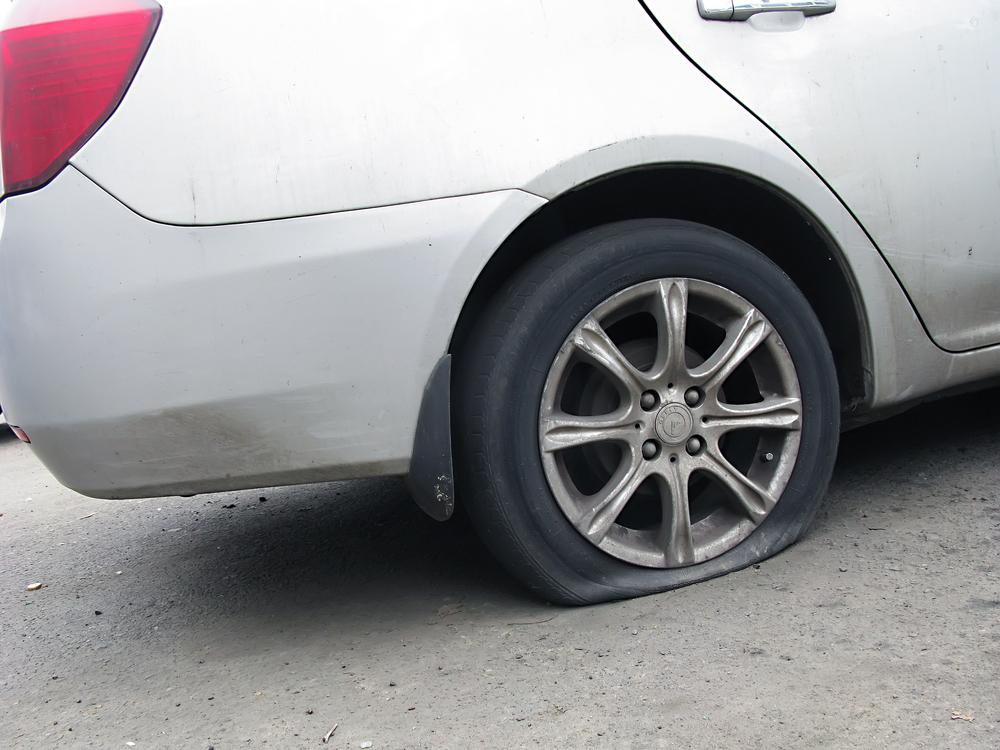tire flat: (463, 220, 843, 611)
